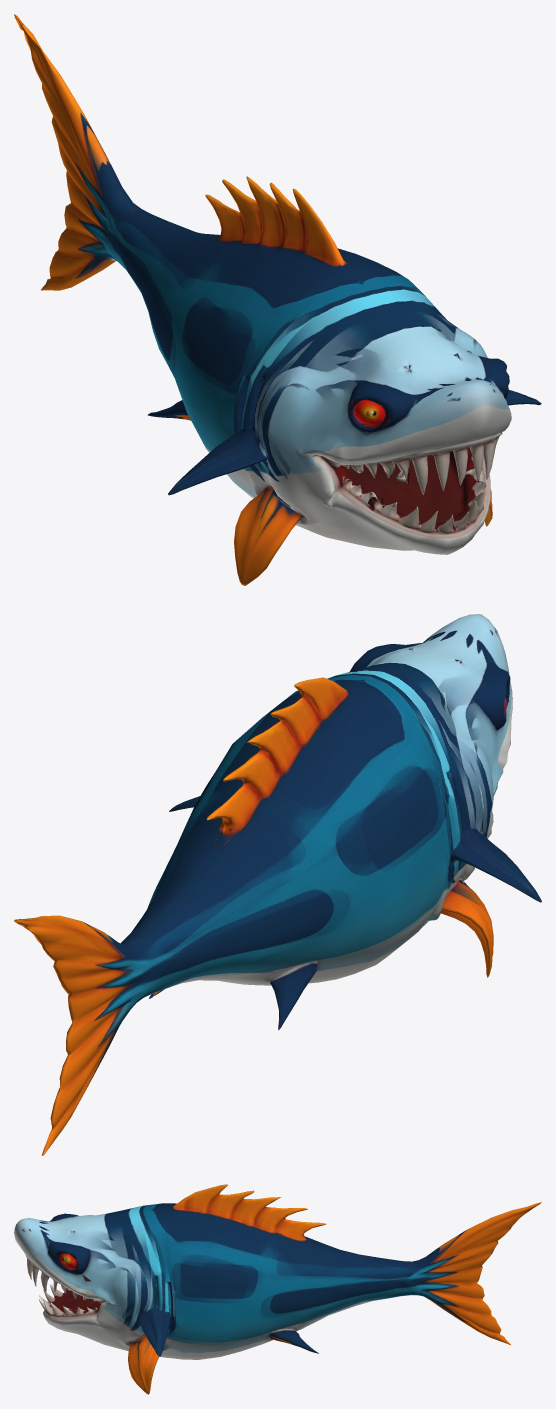
Rendered from piranha-tier3.glb.
3 renders of one model, top to bottom at view 1: azimuth 30°, elevation 25°; view 2: azimuth 150°, elevation 25°; view 3: azimuth 270°, elevation 25°, orthographic. The views are drawn at different scales.
Size of the model in its own units: 0.4351 by 0.3521 by 0.9536.
1 material, 1 textured.
